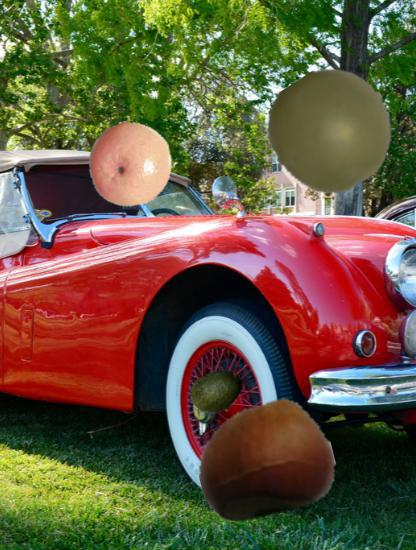Avocado: (190, 366, 244, 420)
Grape: (270, 70, 394, 194)
Grapefruit: (87, 121, 174, 208)
Nut: (197, 392, 334, 529)
